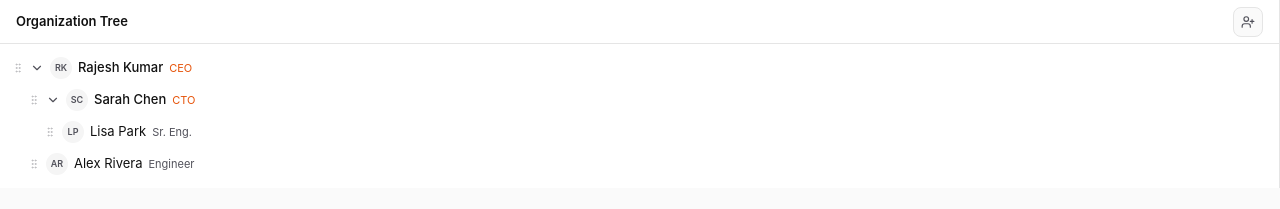
Scenario: InteractiveTree › renames a node on Enter after F2
Click the text "Alex Rivera" at (108, 164), box left=74, top=154, right=142, bottom=174
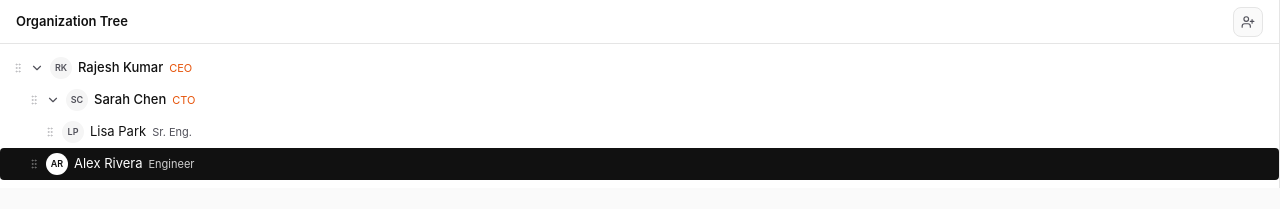
Press F2
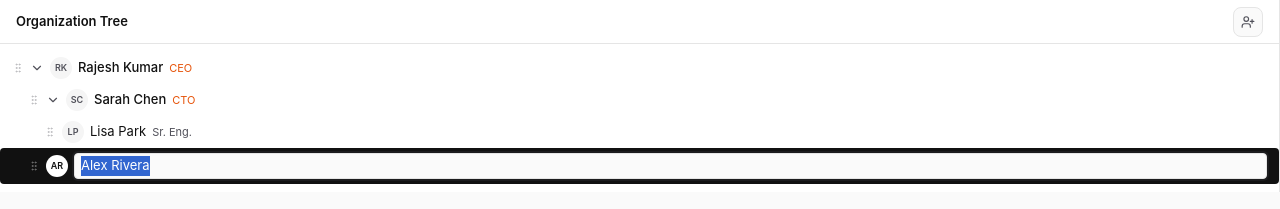
Replace the text in the field with test id "tree-rename-input" with "Alex R. Updated" at (670, 166), box left=74, top=153, right=1267, bottom=178
Then press Enter
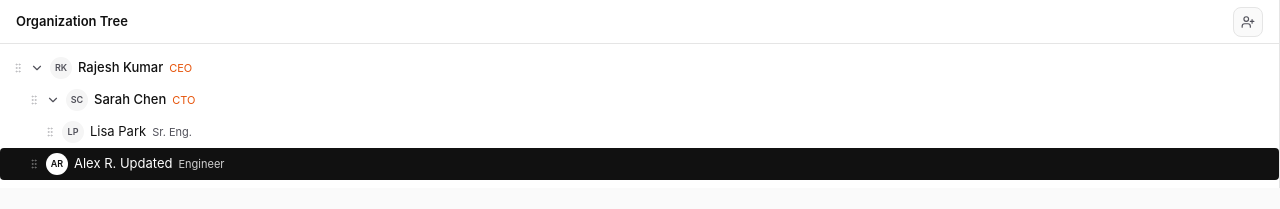
Check: the text "Alex R. Updated" is shown, box left=74, top=154, right=172, bottom=174
Check: the field with test id "tree-rename-input" is gone
